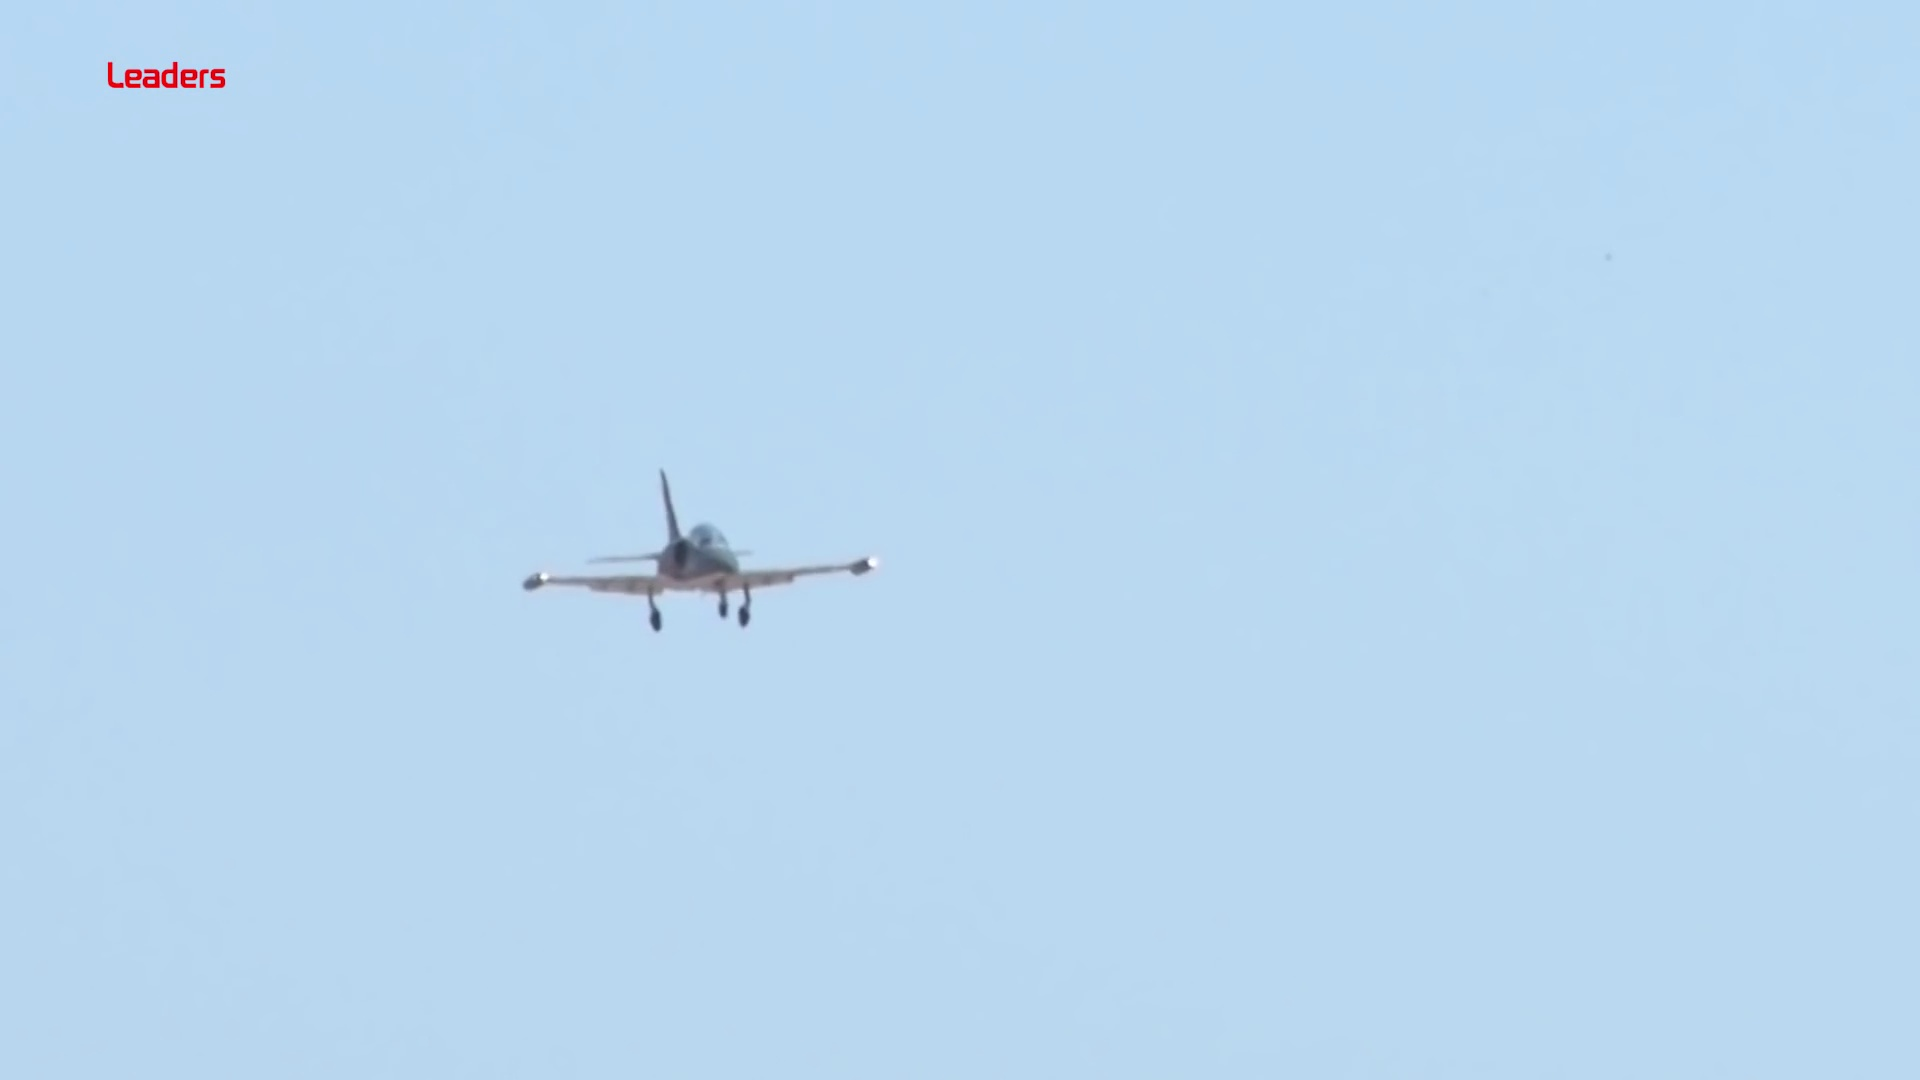Airplane: (516, 473, 881, 630)
